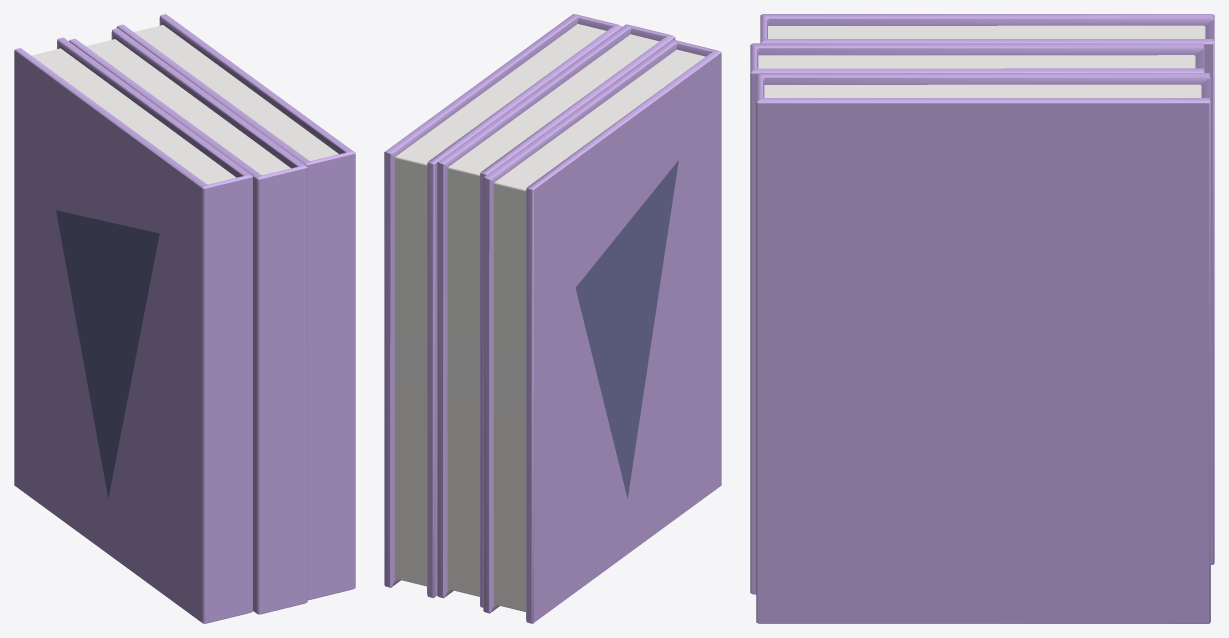
Rendered from Books_4.glb.
3 renders of one model, left to right at view 1: azimuth 30°, elevation 25°; view 2: azimuth 150°, elevation 25°; view 3: azimuth 270°, elevation 25°, orthographic. The views are drawn at different scales.
Visible parts, largest first — view 1: Books_4; view 2: Books_4; view 3: Books_4.
Part boxes in pixels (box(x1,y1,x2,y2)): Books_4: box(14, 14, 355, 623); Books_4: box(384, 14, 721, 623); Books_4: box(750, 14, 1214, 623).
Size of the model in its own units: 0.1455 by 0.4012 by 0.3228.
1 material, 1 textured.
